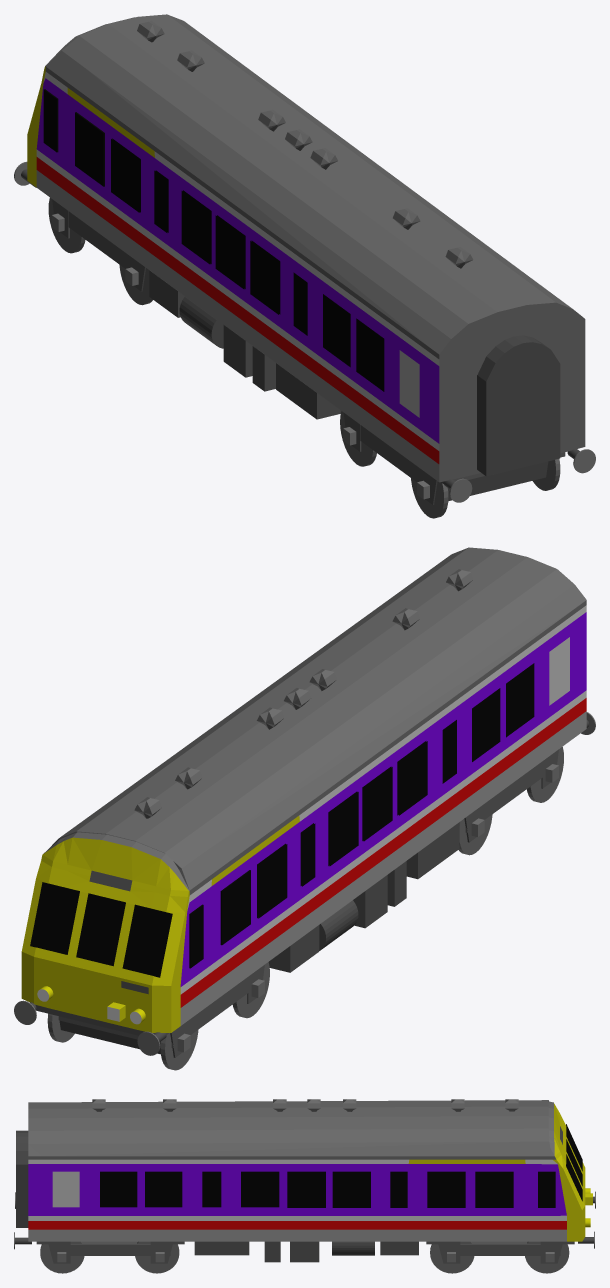
File: BR-101-dtcl-nse-new.dae
The picture shows the model from 3 angles, top to bottom: view 1: azimuth 30°, elevation 25°; view 2: azimuth 150°, elevation 25°; view 3: azimuth 270°, elevation 25°; orthographic projection. The views are drawn at different scales.
Visible parts, largest first — view 1: BR-cl101-front_rear, Cube, Cube_060_001, Cube_001, Cube_043, Cube_043_001, Cylinder_002, Cube_003, Cube_004, Cube_002, Cylinder_011_001; view 2: BR-cl101-front_rear, Cube_043, Cube_001, Cube_043_001, Cube_004, Cube_003, Cube_061, Cylinder_002, Cylinder_010, Cube_002; view 3: BR-cl101-front_rear, Cube_043, Cube_043_001, Cube, Cube_001, Cube_003, Cylinder_008_001, Cylinder_003, Cylinder_008, Cylinder_009_001, Cylinder_009, Cube_004 (+5 smaller).
Part boxes in pixels (left/top/right/bottom): BR-cl101-front_rear: left=27, top=14, right=585, bottom=482; Cube: left=477, top=335, right=560, bottom=476; Cube_060_001: left=425, top=452, right=565, bottom=504; Cube_001: left=276, top=363, right=341, bottom=419; Cube_043: left=53, top=211, right=142, bottom=281; Cube_043_001: left=360, top=425, right=433, bottom=494; Cylinder_002: left=179, top=296, right=223, bottom=348; Cube_003: left=223, top=325, right=252, bottom=377; Cube_004: left=149, top=270, right=184, bottom=317; Cube_002: left=252, top=346, right=275, bottom=391; Cylinder_011_001: left=411, top=478, right=448, bottom=518; BR-cl101-front_rear: left=21, top=547, right=586, bottom=1035; Cube_043: left=58, top=967, right=262, bottom=1047; Cube_001: left=406, top=822, right=459, bottom=879; Cube_043_001: left=465, top=751, right=556, bottom=832; Cube_004: left=268, top=925, right=319, bottom=972; Cube_003: left=353, top=875, right=387, bottom=928; Cube_061: left=59, top=1020, right=187, bottom=1057; Cylinder_002: left=319, top=900, right=358, bottom=950; Cylinder_010: left=160, top=1030, right=198, bottom=1070; Cube_002: left=387, top=861, right=406, bottom=906; BR-cl101-front_rear: left=28, top=1099, right=585, bottom=1241; Cube_043: left=460, top=1241, right=560, bottom=1255; Cube_043_001: left=70, top=1241, right=170, bottom=1255; Cube: left=16, top=1130, right=28, bottom=1227; Cube_001: left=194, top=1241, right=249, bottom=1255; Cube_003: left=290, top=1241, right=319, bottom=1262; Cylinder_008_001: left=40, top=1241, right=84, bottom=1273; Cylinder_003: left=332, top=1241, right=374, bottom=1255; Cylinder_008: left=430, top=1241, right=474, bottom=1273; Cylinder_009_001: left=135, top=1241, right=179, bottom=1273; Cylinder_009: left=525, top=1241, right=569, bottom=1273; Cube_004: left=380, top=1241, right=418, bottom=1255.
Size of the model in its own units: 2.04 by 10.32 by 3.05.
